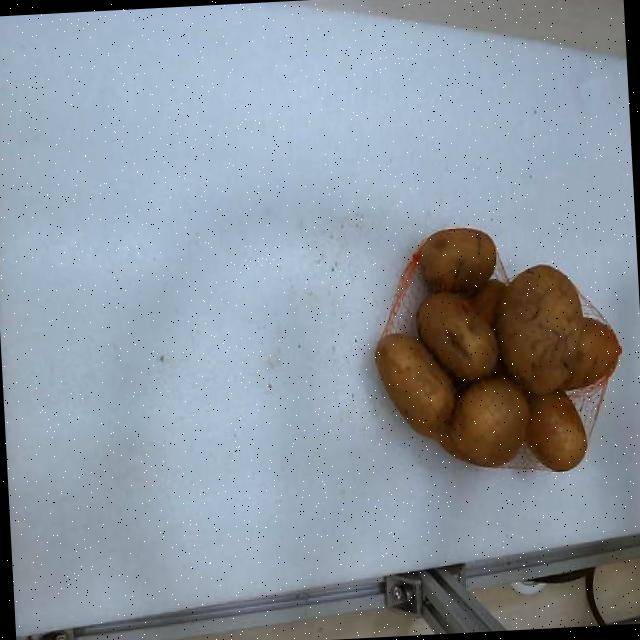potato: (496, 265, 583, 394), (375, 337, 455, 437), (416, 292, 498, 379), (451, 377, 529, 465), (526, 391, 587, 470), (420, 229, 496, 291), (564, 319, 622, 389)
